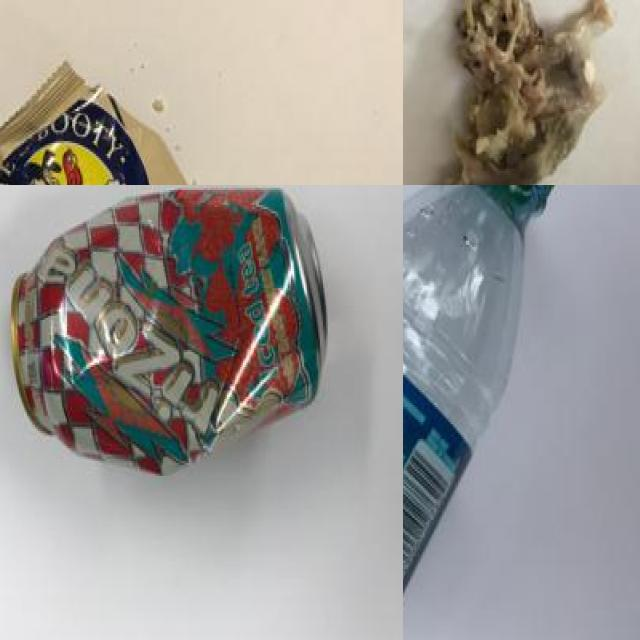compost: (403, 0, 637, 185)
plastic: (5, 185, 332, 477), (403, 185, 553, 640)
trash: (0, 59, 318, 185)
